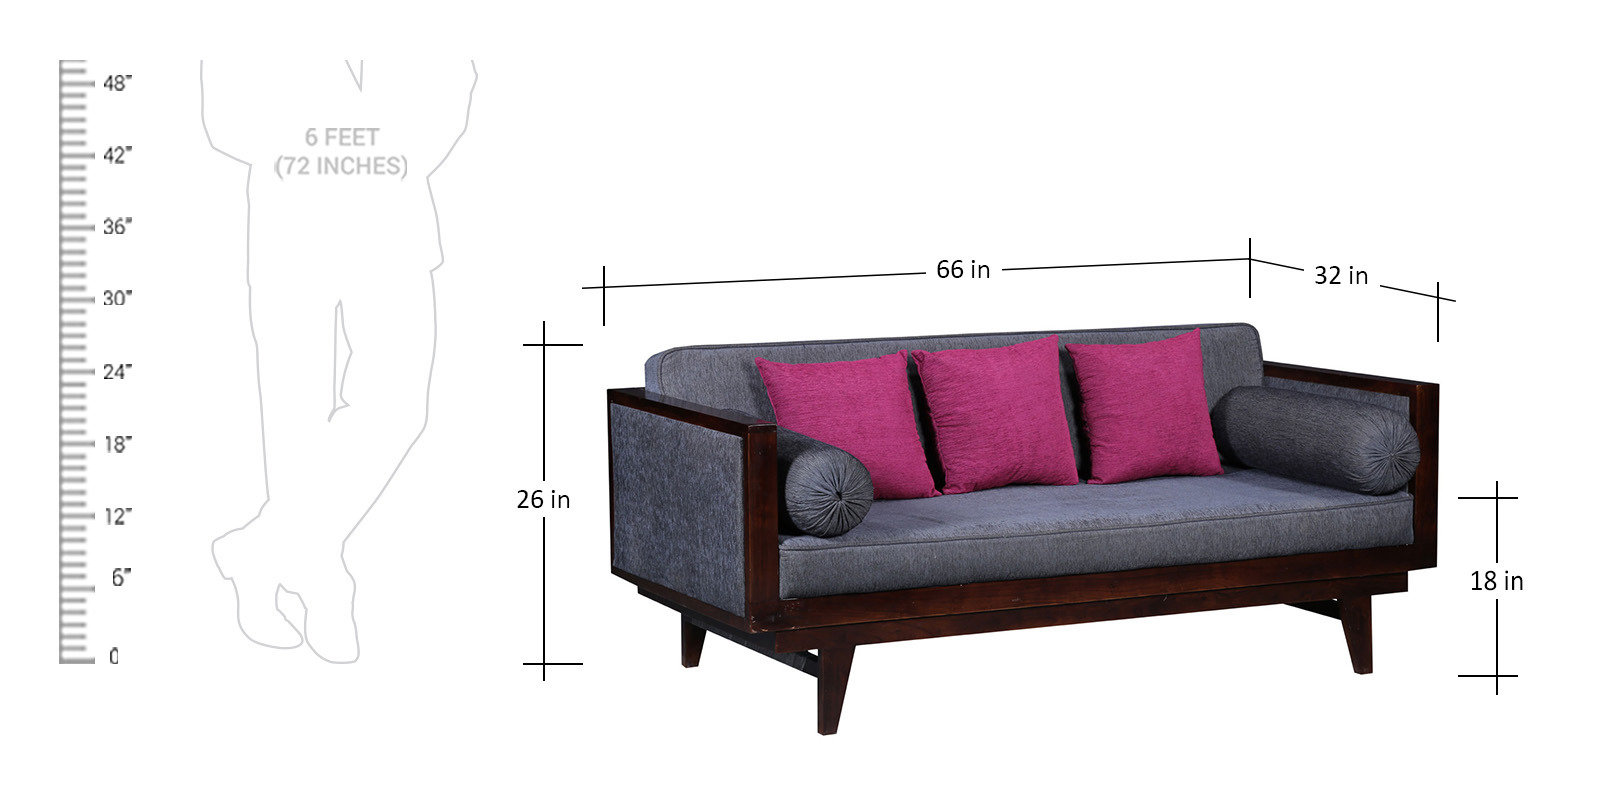Dillon Three Seater Sofa in Passion Mahogany Finish by Woodsworth: (595, 314, 1453, 735)
